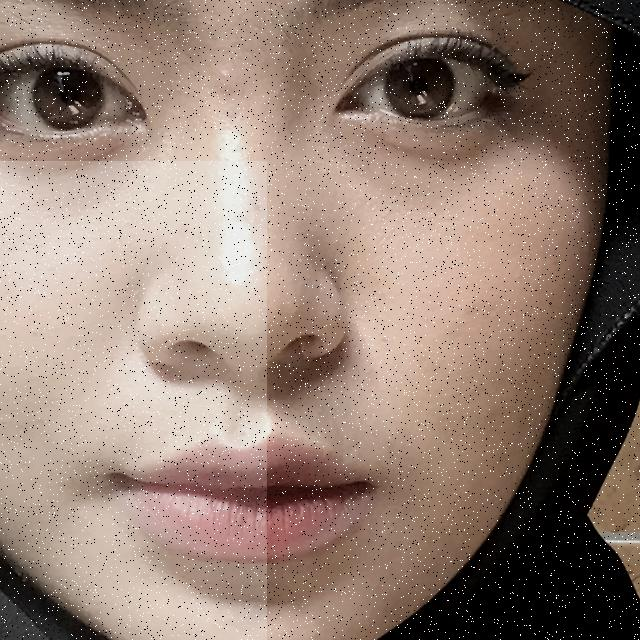ibu: (0, 161, 267, 640)
